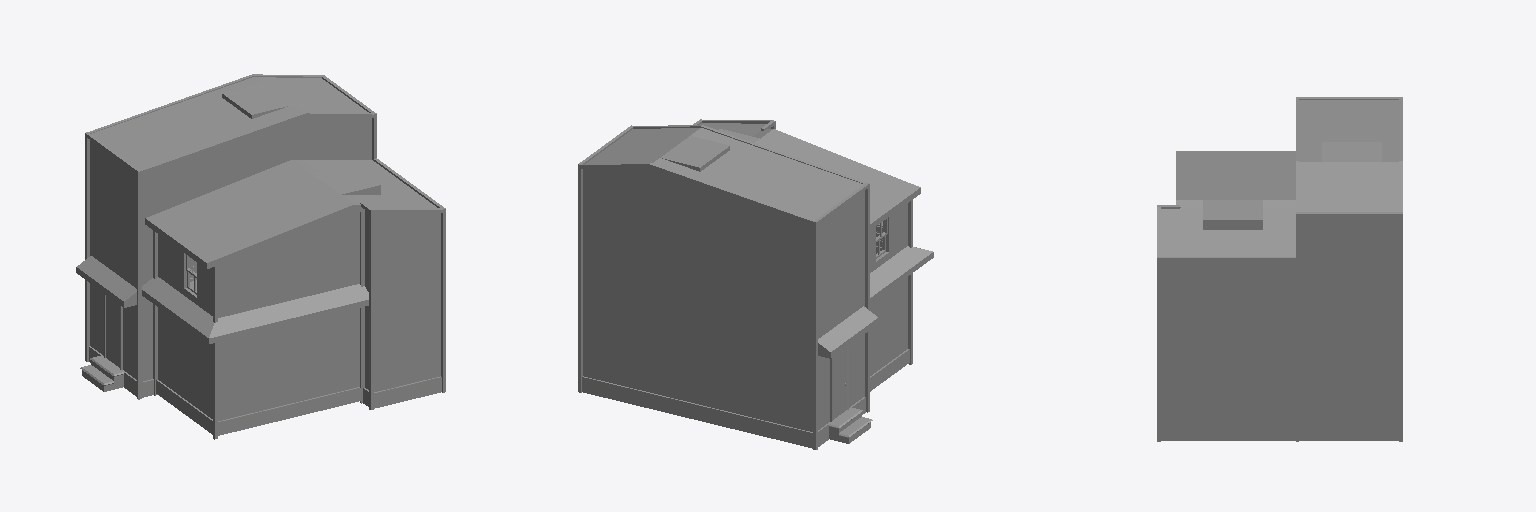
Rendered from Bedroom.obj.
3 renders of one model, left to right at view 1: azimuth 30°, elevation 25°; view 2: azimuth 150°, elevation 25°; view 3: azimuth 270°, elevation 25°, orthographic.
Visible parts, largest first — view 1: bedroom_605860d4_bedroom_605860d4Mesh; view 2: bedroom_605860d4_bedroom_605860d4Mesh; view 3: bedroom_605860d4_bedroom_605860d4Mesh.
Part boxes in pixels (left/top/right/bottom): bedroom_605860d4_bedroom_605860d4Mesh: left=76, top=74, right=445, bottom=439; bedroom_605860d4_bedroom_605860d4Mesh: left=578, top=119, right=933, bottom=449; bedroom_605860d4_bedroom_605860d4Mesh: left=1157, top=97, right=1402, bottom=441.
Size of the model in its own units: 473 by 431 by 390.